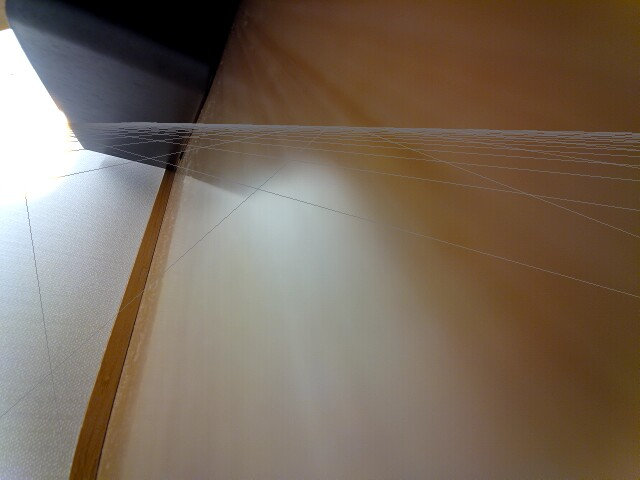fire: (0, 84, 86, 206)
